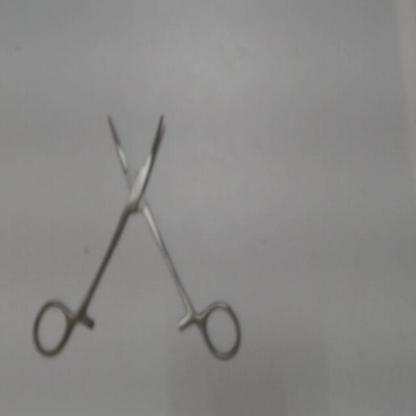Crile Artery Forceps: (27, 107, 244, 366)
